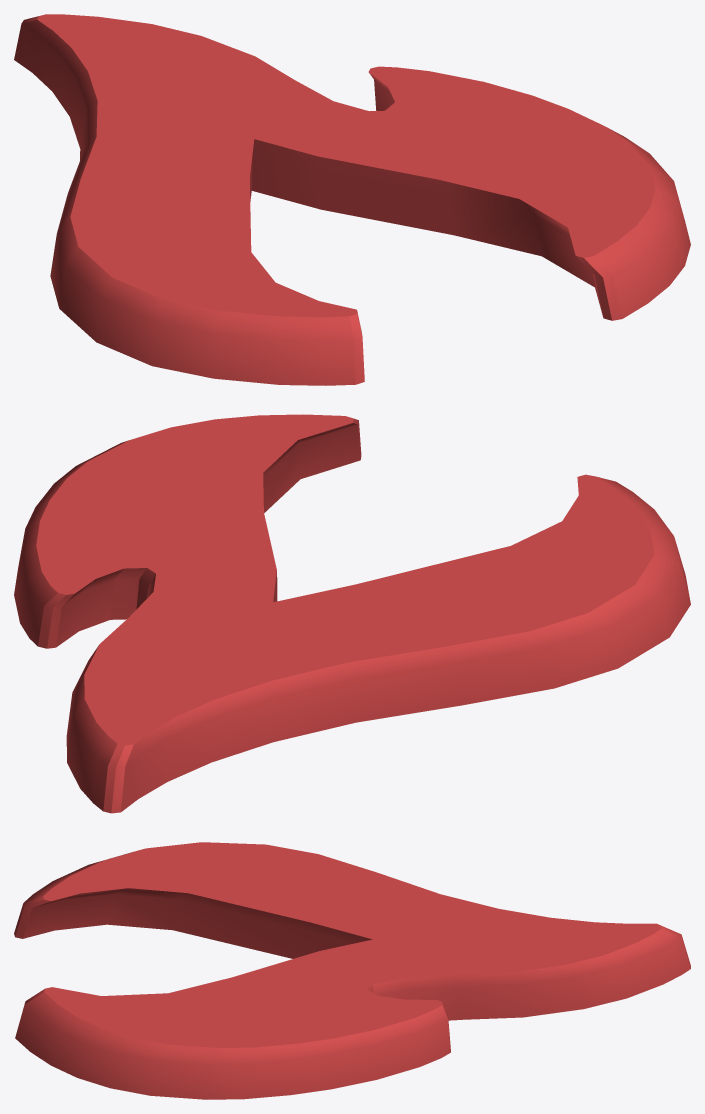
File: icon_bombero.fbx
The picture shows the model from 3 angles, top to bottom: view 1: azimuth 30°, elevation 25°; view 2: azimuth 150°, elevation 25°; view 3: azimuth 270°, elevation 25°; orthographic projection. The views are drawn at different scales.
Parts seen in each view (by area): view 1: icon_fuego; view 2: icon_fuego; view 3: icon_fuego.
Part boxes in pixels (<box>): icon_fuego: <box>14,14,690,385</box>; icon_fuego: <box>14,414,690,813</box>; icon_fuego: <box>14,842,690,1099</box>.
Size of the model in its own units: 0.5968 by 0.0517 by 0.7573.
